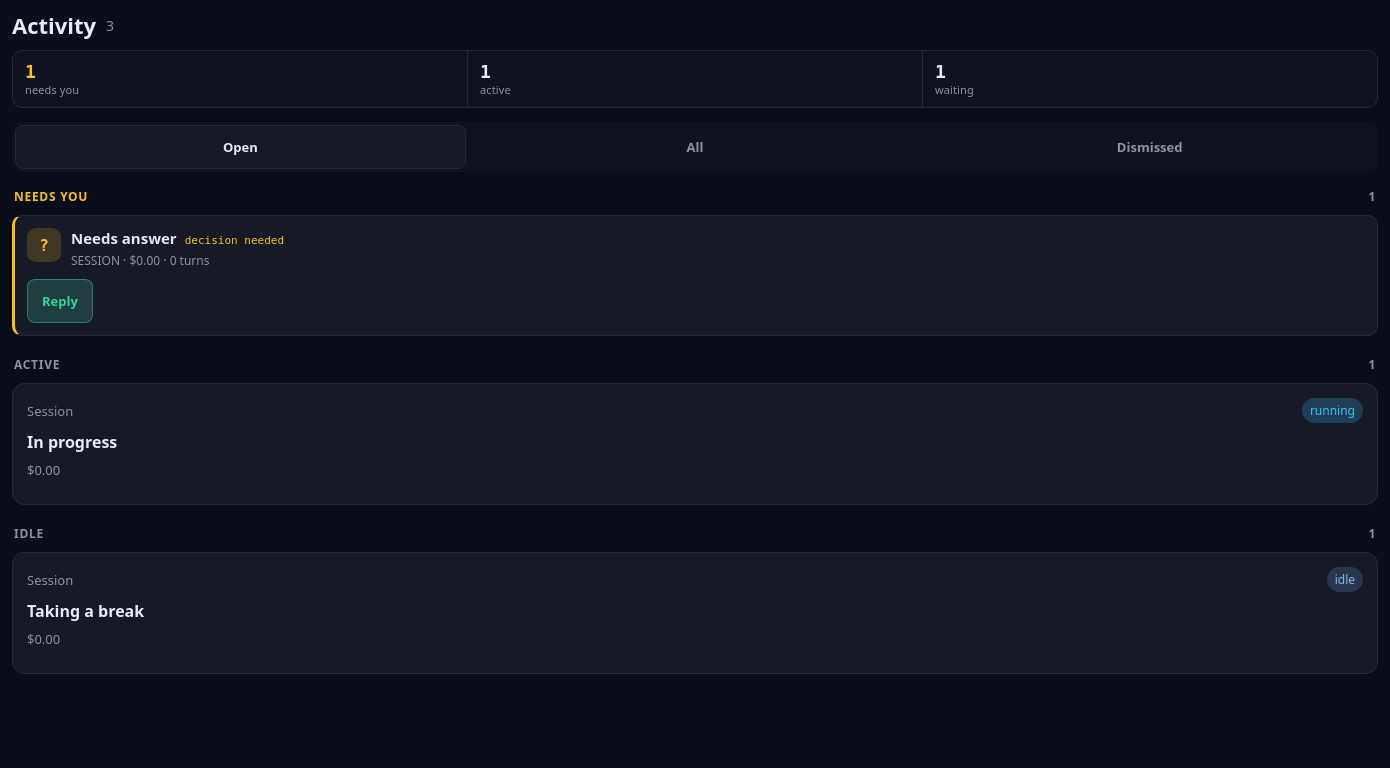
ActivityScreen › filters from the summary counts and clears the filter on a second tap
What coordinates should you click on to do the following:
click the button with aria-label "active: 1. filter activity"
I would click on:
 (495, 90)
Its box is [468,51,922,107].
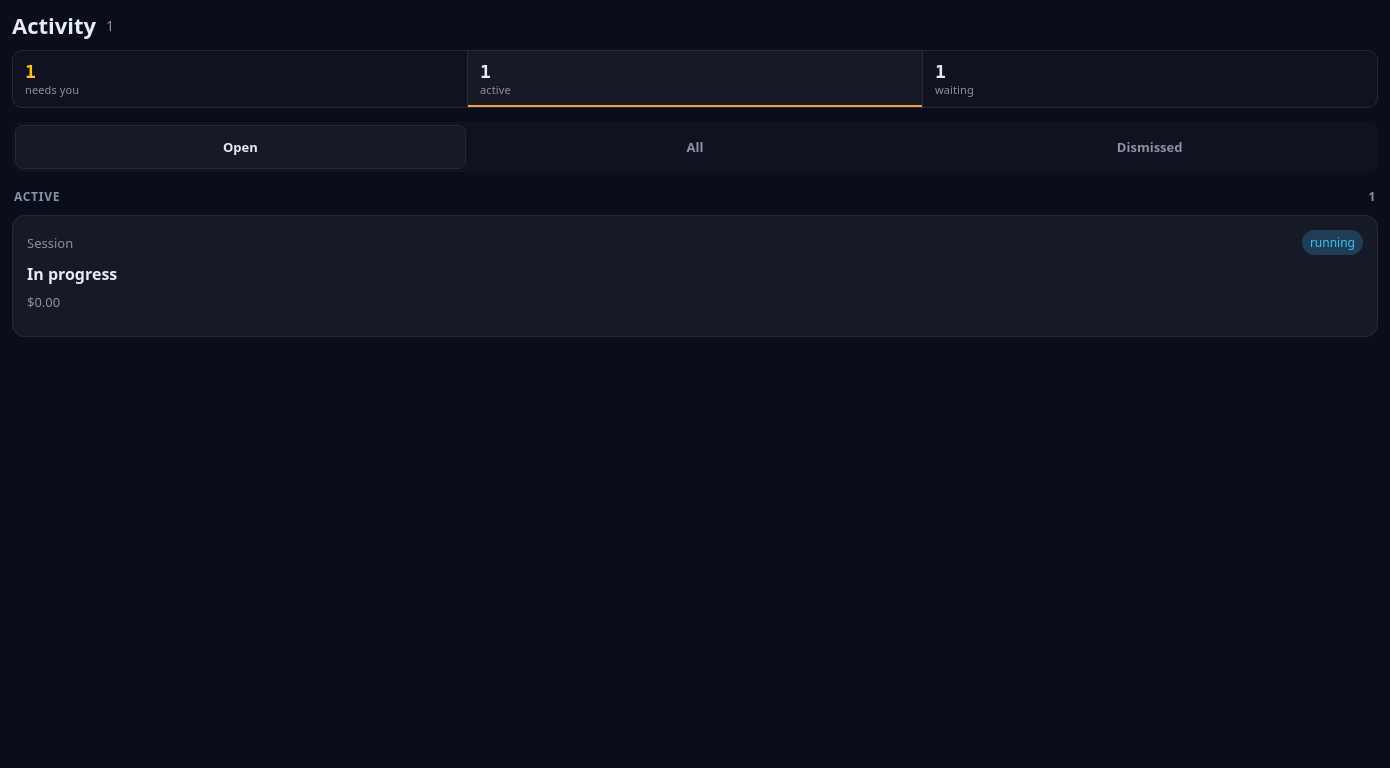
Expected: the text "In progress" is shown, [27,263,117,285]
Expected: the button "Needs answer" is gone
Expected: the button "Taking a break" is gone
What coordinates should you click on to do the following:
click the button named "active: 1. filter activity"
I would click on:
 (495, 90)
Its box is [468,51,922,107].
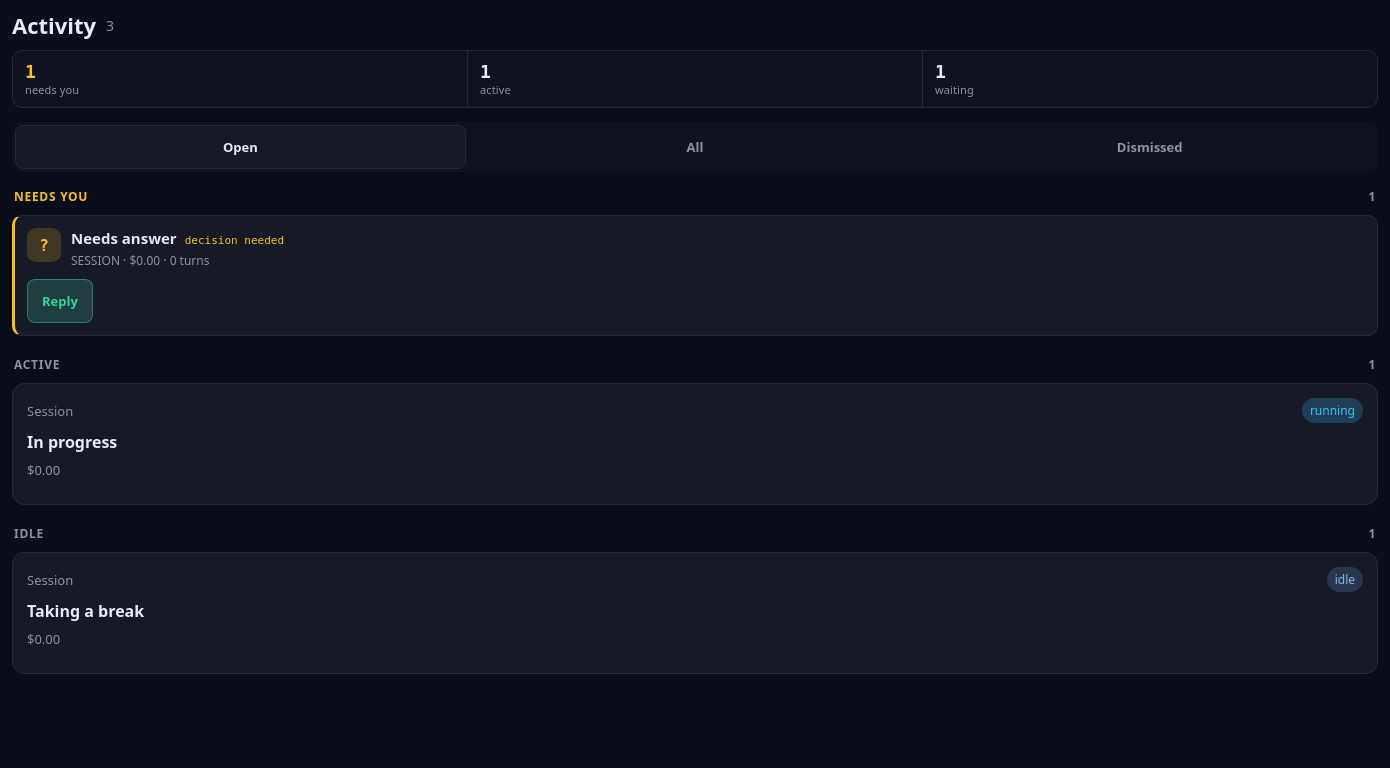
Expected: the text "Needs answer" is shown, [71,228,177,248]
Expected: the text "Taking a break" is shown, [27,600,144,622]
